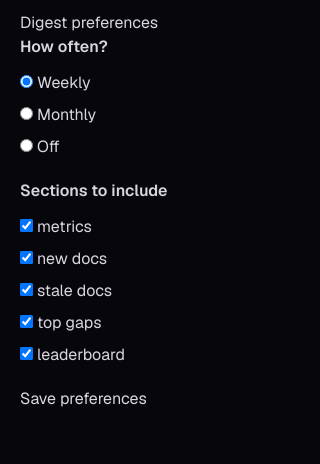
Scenario: DigestPreferences › changing frequency marks dirty and enables Save
Click the radio button with test id "digest-pref-frequency-monthly": (26, 114) [20,107,33,120]
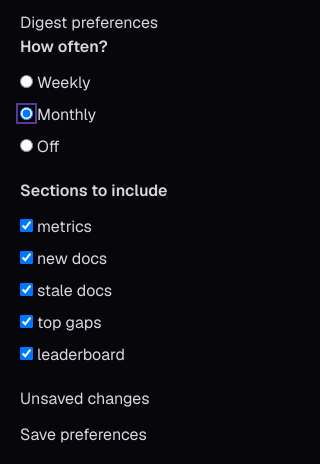
Result: the text "Unsaved changes" is shown at [20,388,150,409]
Result: the button with test id "digest-pref-save" is enabled at [20,423,147,447]
